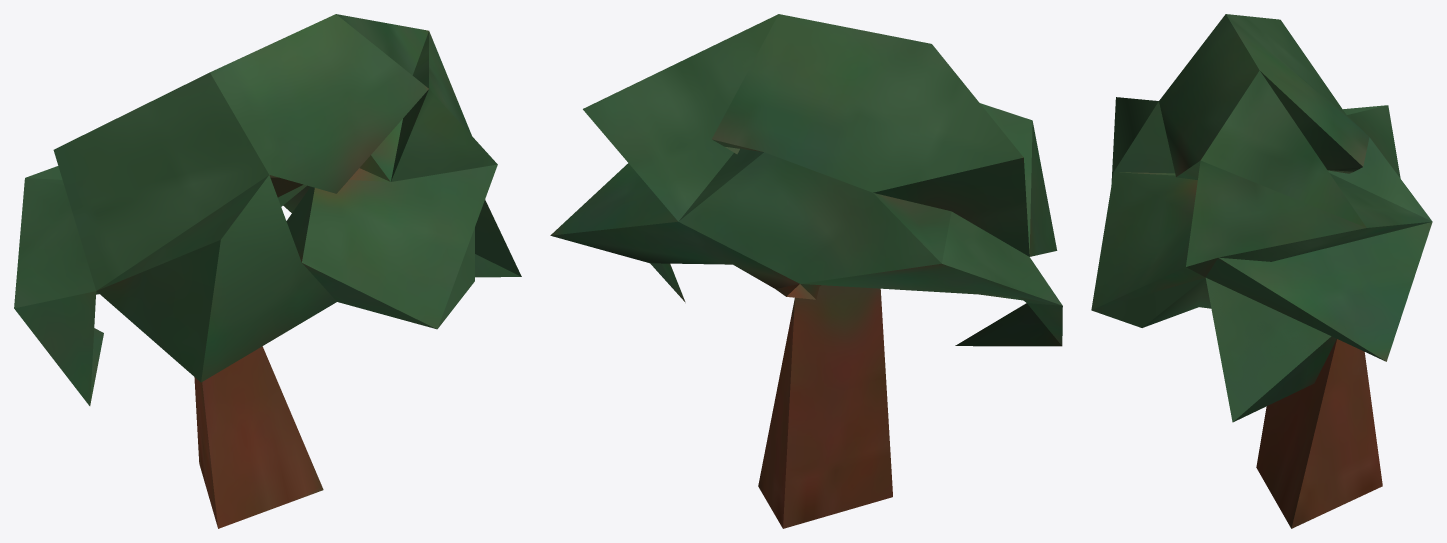
The model's file is tree_oak.lod3.glb.
3 views of the same model, side by side, from view 1: azimuth 30°, elevation 25°; view 2: azimuth 150°, elevation 25°; view 3: azimuth 270°, elevation 25° (orthographic). The views are drawn at different scales.
Parts seen in each view (by area): view 1: tree_oak.lod3_uv; view 2: tree_oak.lod3_uv; view 3: tree_oak.lod3_uv.
Part boxes in pixels (x1=…): tree_oak.lod3_uv: x1=14, y1=14, x2=521, y2=528; tree_oak.lod3_uv: x1=550, y1=14, x2=1062, y2=528; tree_oak.lod3_uv: x1=1091, y1=14, x2=1432, y2=528.
Bounding box in the file's own units: 1.6 × 1.54 × 1.05.
Materials: 1 (1 with a texture image).
